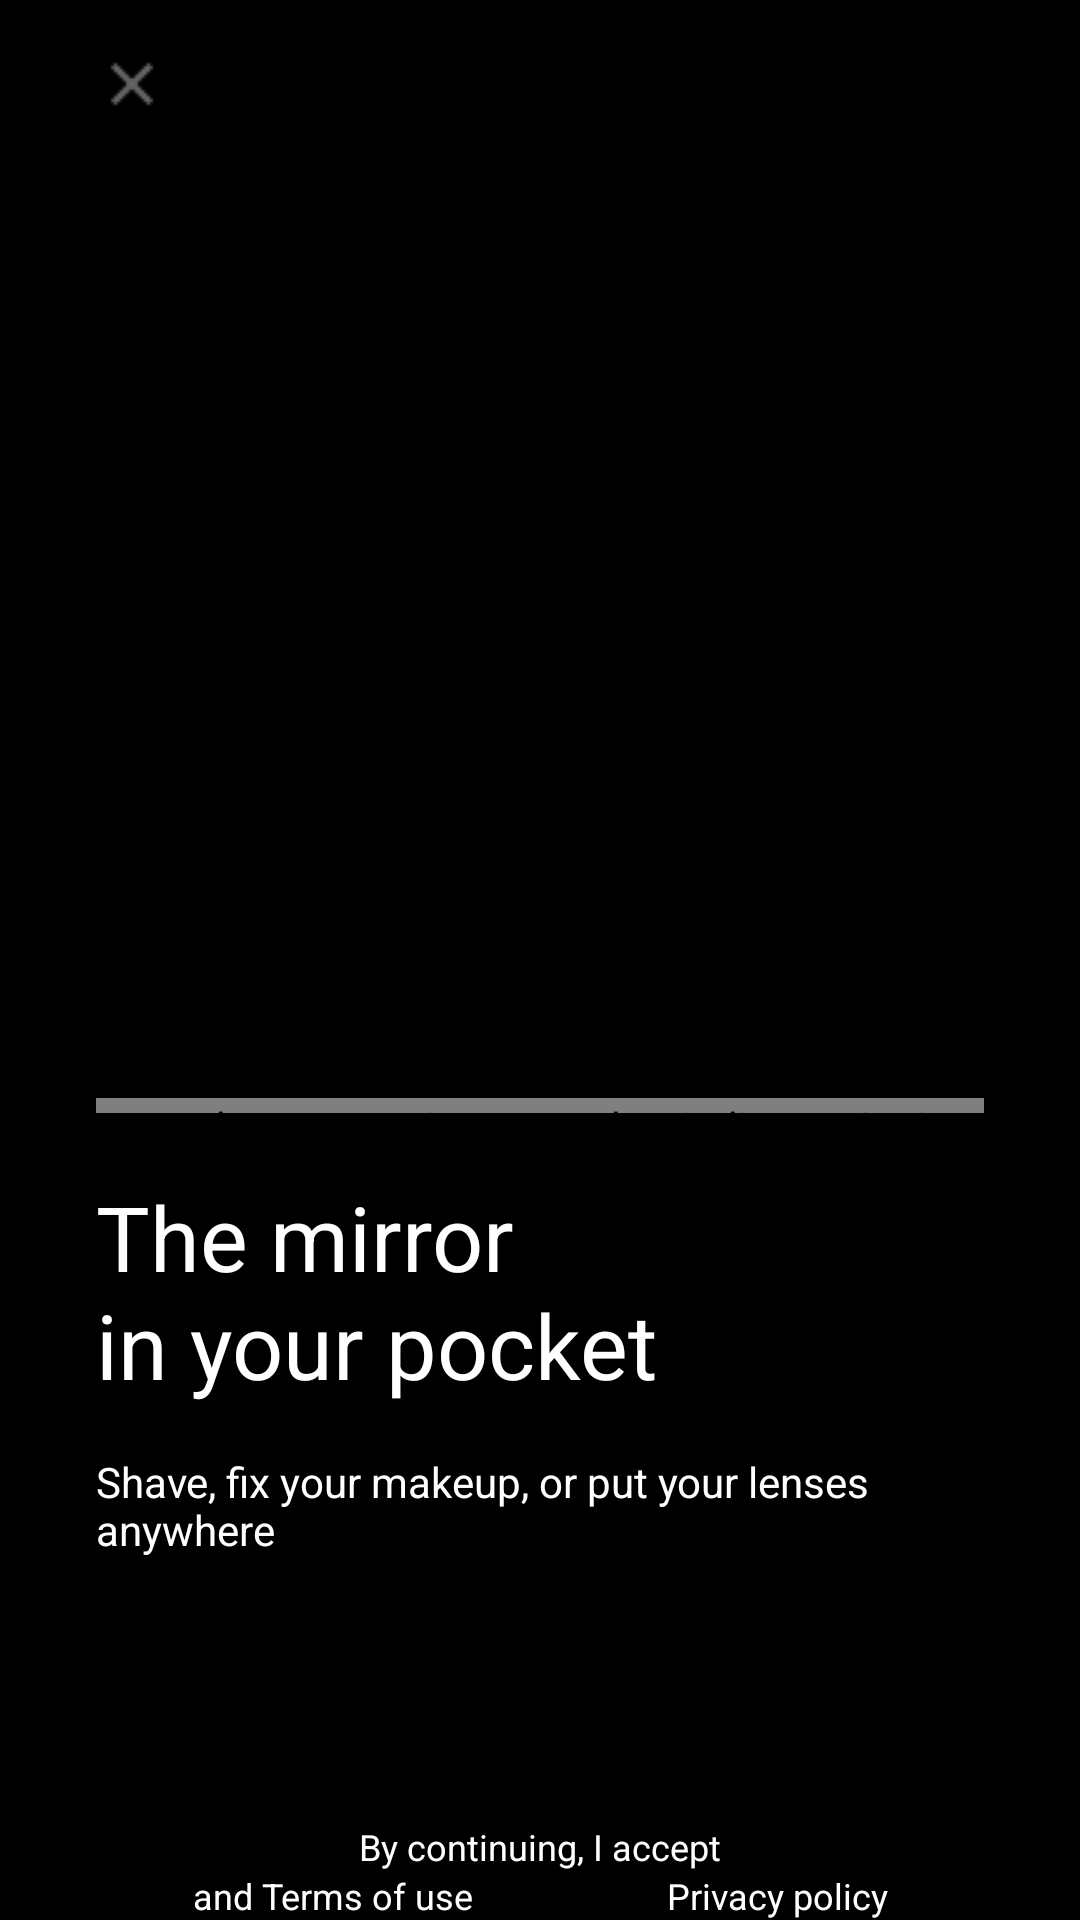

Point at icon controls on the screen. Image size 1080w x 1920h, points as [x,y].
close: [132,84]
